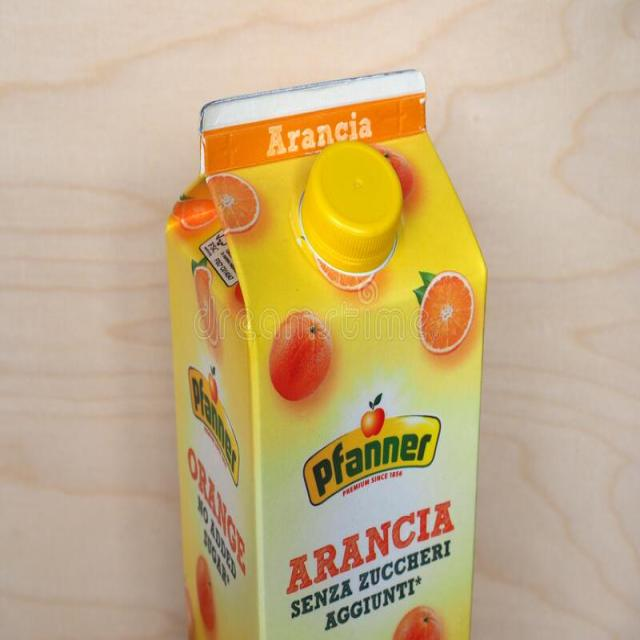cardboard: (158, 63, 480, 640)
